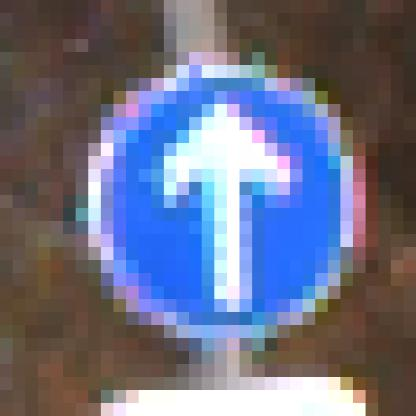AheadOnly: (64, 66, 341, 339)
